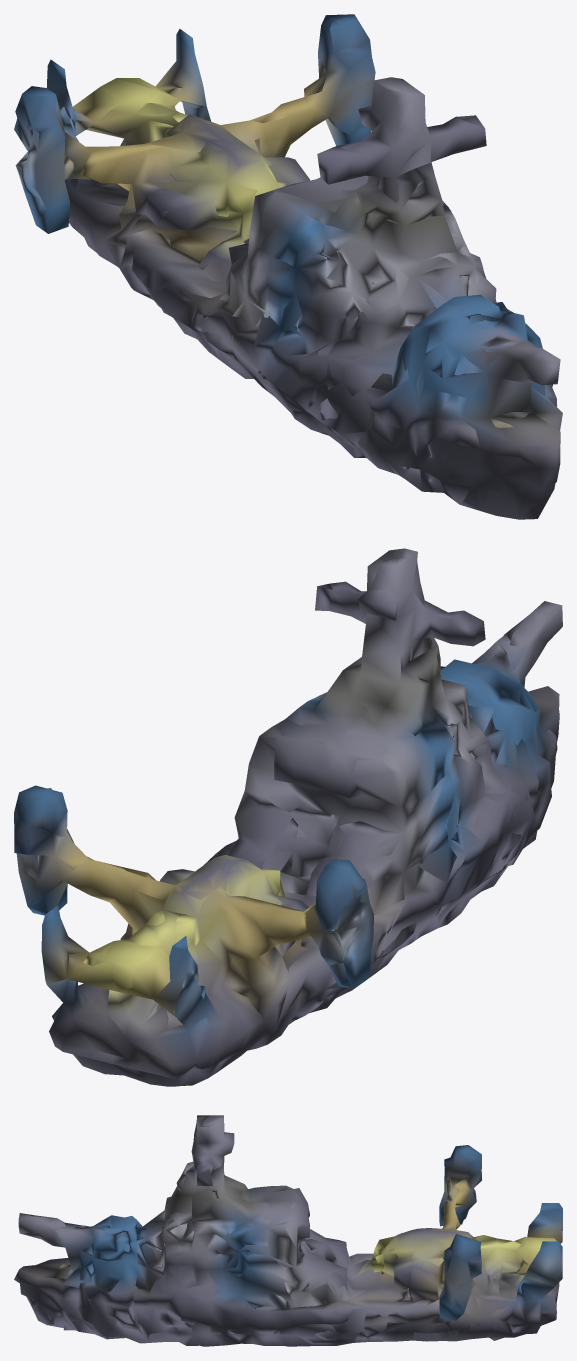
File: allied_destroyer.glb
3 renders of one model, top to bottom at view 1: azimuth 30°, elevation 25°; view 2: azimuth 150°, elevation 25°; view 3: azimuth 270°, elevation 25°, orthographic. The views are drawn at different scales.
Parts seen in each view (by area): view 1: allied_destroyer; view 2: allied_destroyer; view 3: allied_destroyer.
Boxes of the visible parts, left/top/right/bottom form: allied_destroyer: left=14, top=14, right=562, bottom=519; allied_destroyer: left=14, top=548, right=562, bottom=1086; allied_destroyer: left=14, top=1115, right=562, bottom=1346.
Bounding box in the file's own units: 3.75 × 3.57 × 8.46.
